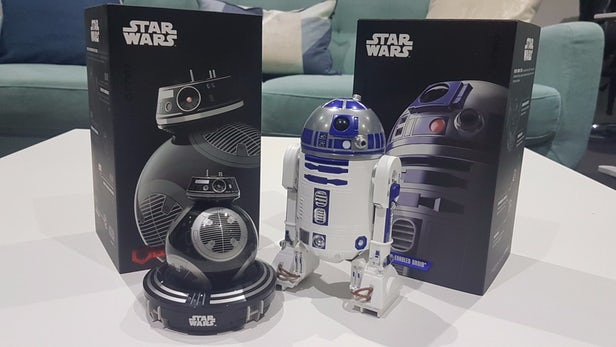r2d2: (273, 93, 400, 316)
